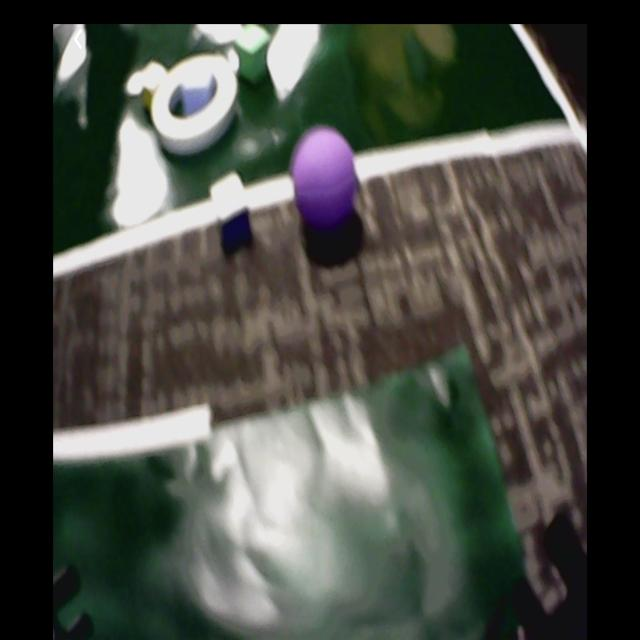ball: (293, 129, 356, 233)
